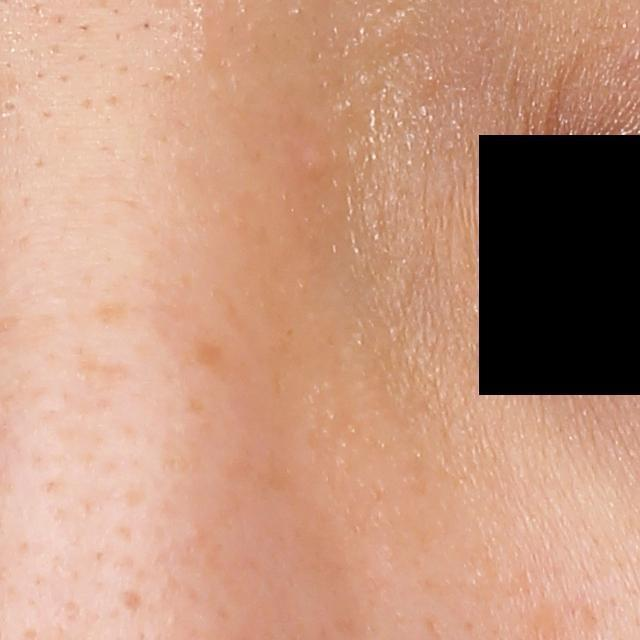atrophic_scar: (120, 587, 143, 617)
melasma: (192, 336, 225, 375)
